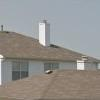Chimney: (30, 14, 60, 48)
